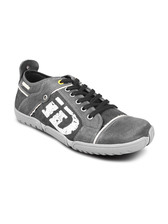shoes: (12, 59, 160, 159)
